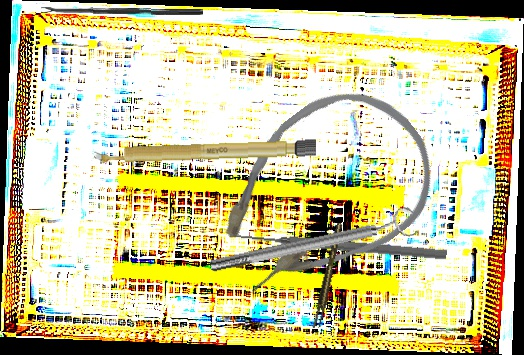Cannula: (181, 61, 460, 327)
Fixation Ring: (206, 204, 419, 282)
Pusher: (228, 228, 448, 262)
Scalpel Handle: (93, 138, 317, 164)
Surgical Spoon: (40, 5, 204, 16)
Tissue Forceps: (309, 222, 348, 330)
